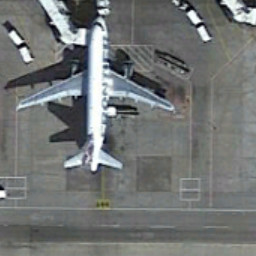Airplane: (7, 9, 183, 180)
